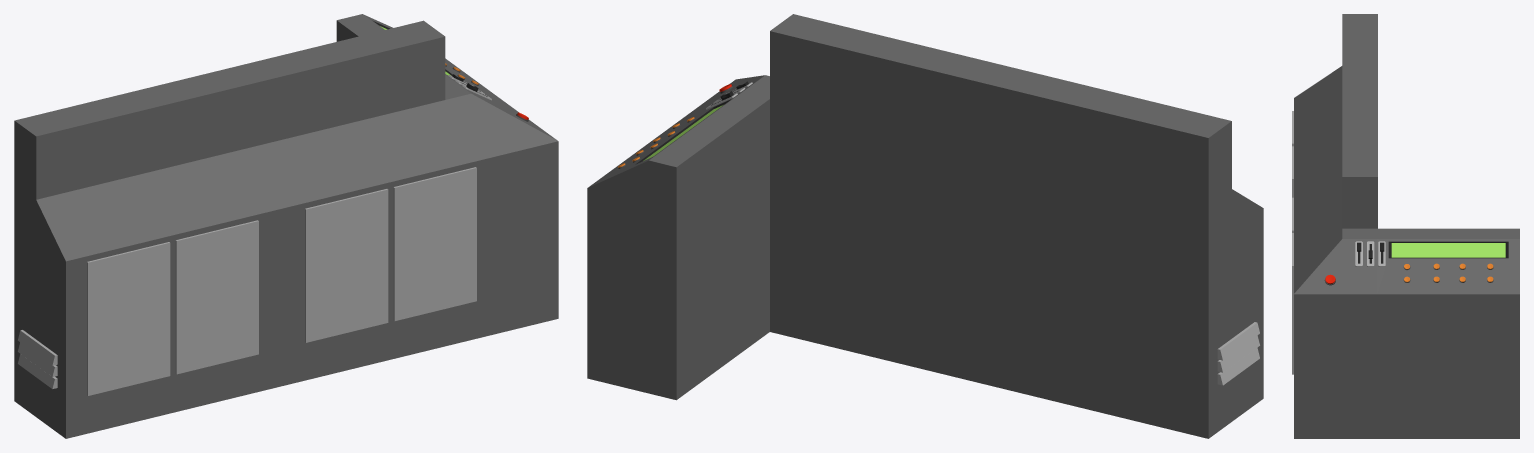
File: machineConsole.fbx
3 views of the same model, side by side, from view 1: azimuth 30°, elevation 25°; view 2: azimuth 150°, elevation 25°; view 3: azimuth 270°, elevation 25° (orthographic). The views are drawn at different scales.
Visible parts, largest first — view 1: Machine Console; view 2: Machine Console; view 3: Machine Console.
Boxes of the visible parts, x1,y1,x2,y2 form: Machine Console: (14,14,558,438); Machine Console: (587,14,1263,438); Machine Console: (1292,14,1519,438).
Size of the model in its own units: 291 by 141 by 157.
